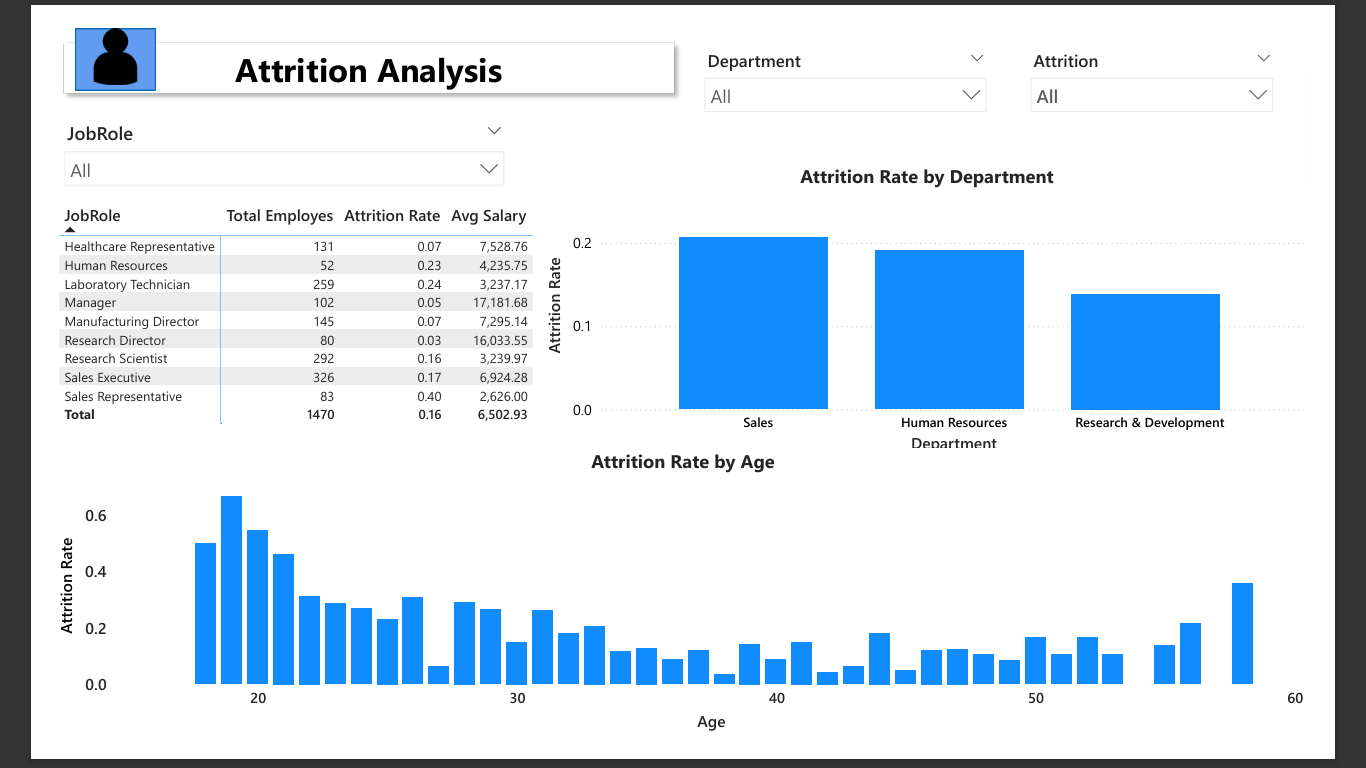

Layout of this report page (visuals, bound fields, positions):
{"tool":"powerbi","page":{"name":"Attrition Analysis","canvas":[1280,720],"ordinal":1},"visuals":[{"type":"columnChart","fields":{"Y":["hr_clean.Attrition Rate"],"Category":["hr_clean.Department"]},"box":[496.7,136.7,783.3,300],"z":0},{"type":"columnChart","fields":{"Y":["hr_clean.Attrition Rate"],"Category":["hr_clean.Age"]},"box":[0,428.3,1280,291.7],"z":1000},{"type":"pivotTable","fields":{"Rows":["hr_clean.JobRole"],"Values":["hr_clean.Total Employes","hr_clean.Attrition Rate","hr_clean.Avg Salary"]},"box":[0,173.3,496.7,255],"z":2000},{"type":"slicer","fields":{"Values":["hr_clean.Attrition"]},"box":[984.1,15.1,267,74.3],"z":3000},{"type":"slicer","fields":{"Values":["hr_clean.JobRole"]},"box":[0,88.3,468.3,85],"z":4000},{"type":"slicer","fields":{"Values":["hr_clean.Department"]},"box":[652.4,15.1,306.9,89.5],"z":5000},{"type":"shape","box":[0,5,640,70],"z":6000},{"type":"shape","box":[20.6,0,82.6,63.3],"z":7000},{"type":"image","box":[15.1,0,93.6,57.8],"z":8000}]}

Visuals, with their boxes in screenshot pixels (x1, y1, x2, y2), scaled from the page's 1280x720 canvas onto the 1366x768 screenshot:
columnChart - hr_clean.Attrition Rate x hr_clean.Department: pyautogui.locateOnScreen(530, 146, 1365, 466)
columnChart - hr_clean.Attrition Rate x hr_clean.Age: pyautogui.locateOnScreen(0, 457, 1365, 767)
pivotTable - hr_clean.JobRole x hr_clean.Total Employes: pyautogui.locateOnScreen(0, 185, 530, 457)
slicer - hr_clean.Attrition: pyautogui.locateOnScreen(1050, 16, 1335, 95)
slicer - hr_clean.JobRole: pyautogui.locateOnScreen(0, 94, 500, 185)
slicer - hr_clean.Department: pyautogui.locateOnScreen(696, 16, 1024, 112)
shape: pyautogui.locateOnScreen(0, 5, 683, 80)
shape: pyautogui.locateOnScreen(22, 0, 110, 68)
image: pyautogui.locateOnScreen(16, 0, 116, 62)
